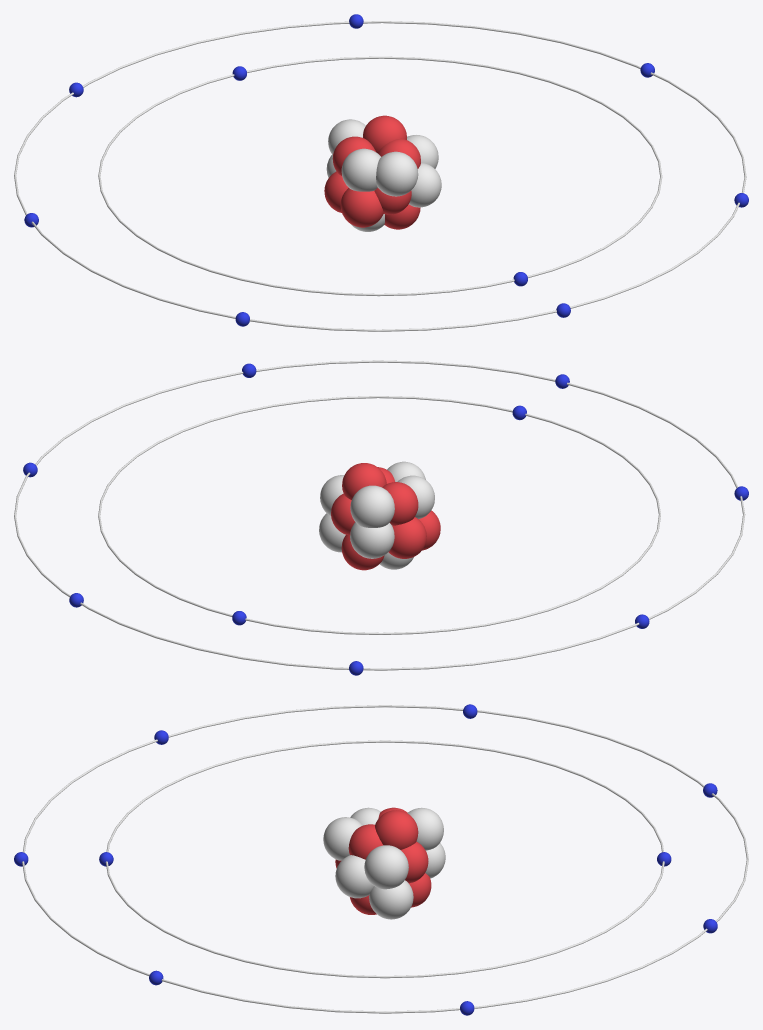
The model's file is Fluor.glb.
3 views of the same model, one above another, from view 1: azimuth 30°, elevation 25°; view 2: azimuth 150°, elevation 25°; view 3: azimuth 270°, elevation 25° (orthographic).
Visible parts, largest first — view 1: L-Schale, K-Schale, Neutron 10, Neutron 7, Proton 7, Proton 6, Neutron 4, Neutron 9, Proton 9, Proton 8, Neutron 6, Proton 3 (+2 smaller); view 2: L-Schale, K-Schale, Neutron 9, Neutron 8, Proton 8, Proton 6, Proton 9, Neutron 7, Proton 5, Proton 4, Neutron 5, Neutron 6; view 3: L-Schale, K-Schale, Neutron 6, Proton 6, Neutron 5, Neutron 4, Neutron 10, Neutron 9, Proton 2, Proton 5.
Boxes of the visible parts, left/top/right/bottom form: L-Schale: left=14, top=21, right=746, bottom=331; K-Schale: left=98, top=56, right=662, bottom=296; Neutron 10: left=376, top=151, right=418, bottom=196; Neutron 7: left=341, top=148, right=380, bottom=191; Proton 7: left=340, top=188, right=383, bottom=227; Proton 6: left=363, top=115, right=406, bottom=152; Neutron 4: left=409, top=162, right=441, bottom=207; Neutron 9: left=328, top=119, right=365, bottom=155; Proton 9: left=332, top=136, right=375, bottom=175; Proton 8: left=324, top=171, right=348, bottom=212; Neutron 6: left=407, top=135, right=438, bottom=168; Proton 3: left=384, top=204, right=420, bottom=229; L-Schale: left=14, top=360, right=745, bottom=670; K-Schale: left=98, top=396, right=660, bottom=634; Neutron 9: left=350, top=485, right=394, bottom=527; Neutron 8: left=350, top=522, right=394, bottom=558; Proton 8: left=388, top=517, right=426, bottom=558; Proton 6: left=342, top=463, right=386, bottom=499; Proton 9: left=382, top=482, right=418, bottom=525; Neutron 7: left=397, top=475, right=434, bottom=519; Proton 5: left=331, top=493, right=354, bottom=534; Proton 4: left=341, top=535, right=384, bottom=570; Neutron 5: left=319, top=513, right=345, bottom=552; Neutron 6: left=320, top=475, right=344, bottom=515; L-Schale: left=22, top=705, right=748, bottom=1013; K-Schale: left=105, top=740, right=664, bottom=978; Neutron 6: left=364, top=845, right=408, bottom=889; Proton 6: left=375, top=810, right=418, bottom=849; Neutron 5: left=369, top=880, right=413, bottom=919; Neutron 4: left=335, top=855, right=373, bottom=898; Neutron 10: left=323, top=817, right=362, bottom=860; Neutron 9: left=407, top=807, right=443, bottom=850; Proton 2: left=348, top=824, right=382, bottom=859; Proton 5: left=401, top=841, right=428, bottom=883.
Size of the model in its own units: 13.04 by 2 by 13.18.
